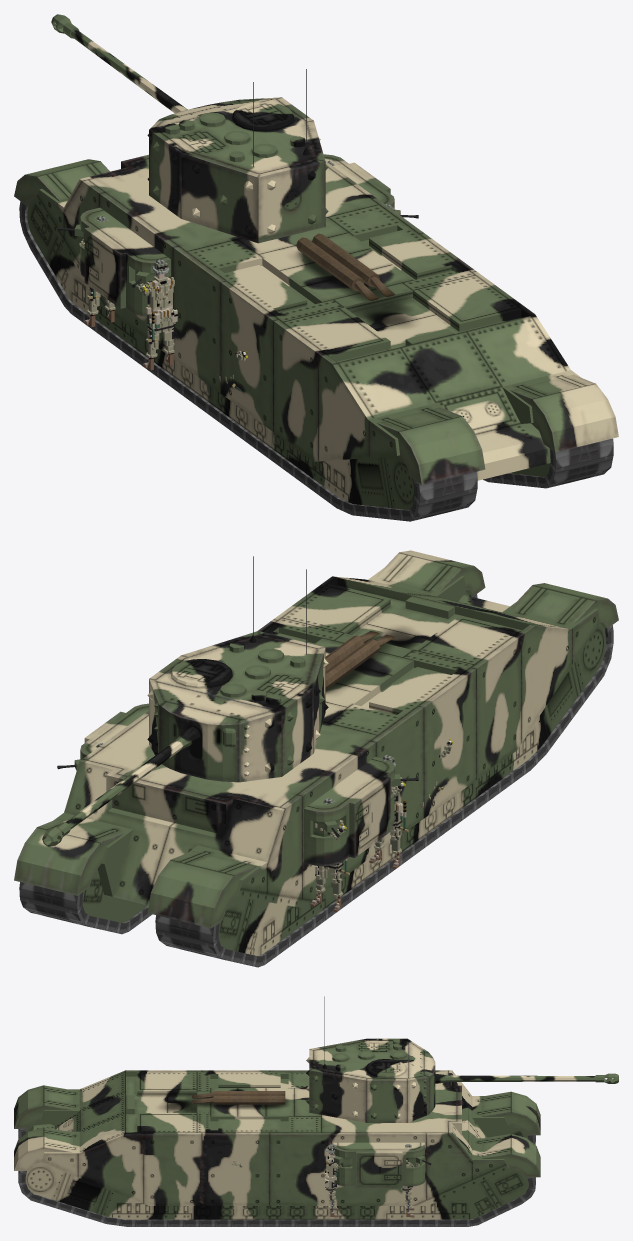
File: tog2_boss.glb
The picture shows the model from 3 angles, top to bottom: view 1: azimuth 30°, elevation 25°; view 2: azimuth 150°, elevation 25°; view 3: azimuth 270°, elevation 25°; orthographic projection. The views are drawn at different scales.
Parts seen in each view (by area): view 1: 00_chassis_tog2_chassis.mesh, 07_turret_tog2_turret.mesh, 13_track_tog2_track.mesh, 12_track_tog2_track.mesh, crew_soldier_SLOT_04_GUNNER, weapon_turret_0_tog2_cannon.mesh, crew_soldier_SLOT_02_GUNNER; view 2: 00_chassis_tog2_chassis.mesh, 07_turret_tog2_turret.mesh, 13_track_tog2_track.mesh, 12_track_tog2_track.mesh, weapon_turret_0_tog2_cannon.mesh, crew_soldier_SLOT_04_GUNNER, crew_soldier_SLOT_02_GUNNER; view 3: 00_chassis_tog2_chassis.mesh, 07_turret_tog2_turret.mesh, 12_track_tog2_track.mesh, weapon_turret_0_tog2_cannon.mesh, crew_soldier_SLOT_05_GUNNER.
Boxes of the visible parts, left/top/right/bottom form: 00_chassis_tog2_chassis.mesh: left=14, top=154, right=618, bottom=509; 07_turret_tog2_turret.mesh: left=147, top=69, right=328, bottom=243; 13_track_tog2_track.mesh: left=19, top=201, right=477, bottom=521; 12_track_tog2_track.mesh: left=483, top=438, right=613, bottom=488; crew_soldier_SLOT_04_GUNNER: left=138, top=259, right=177, bottom=370; weapon_turret_0_tog2_cannon.mesh: left=51, top=14, right=187, bottom=113; crew_soldier_SLOT_02_GUNNER: left=79, top=216, right=115, bottom=327; 00_chassis_tog2_chassis.mesh: left=14, top=550, right=618, bottom=955; 07_turret_tog2_turret.mesh: left=147, top=556, right=328, bottom=782; 13_track_tog2_track.mesh: left=155, top=625, right=613, bottom=967; 12_track_tog2_track.mesh: left=19, top=594, right=477, bottom=934; weapon_turret_0_tog2_cannon.mesh: left=42, top=726, right=200, bottom=846; crew_soldier_SLOT_04_GUNNER: left=369, top=755, right=408, bottom=868; crew_soldier_SLOT_02_GUNNER: left=310, top=798, right=349, bottom=911; 00_chassis_tog2_chassis.mesh: left=14, top=1070, right=540, bottom=1219; 07_turret_tog2_turret.mesh: left=306, top=996, right=435, bottom=1122; 12_track_tog2_track.mesh: left=18, top=1171, right=535, bottom=1226; weapon_turret_0_tog2_cannon.mesh: left=435, top=1073, right=618, bottom=1083; crew_soldier_SLOT_05_GUNNER: left=325, top=1144, right=341, bottom=1217.
Bounding box in the file's own units: 5.06 × 5 × 14.31.
Materials: 39 (3 with a texture image).
